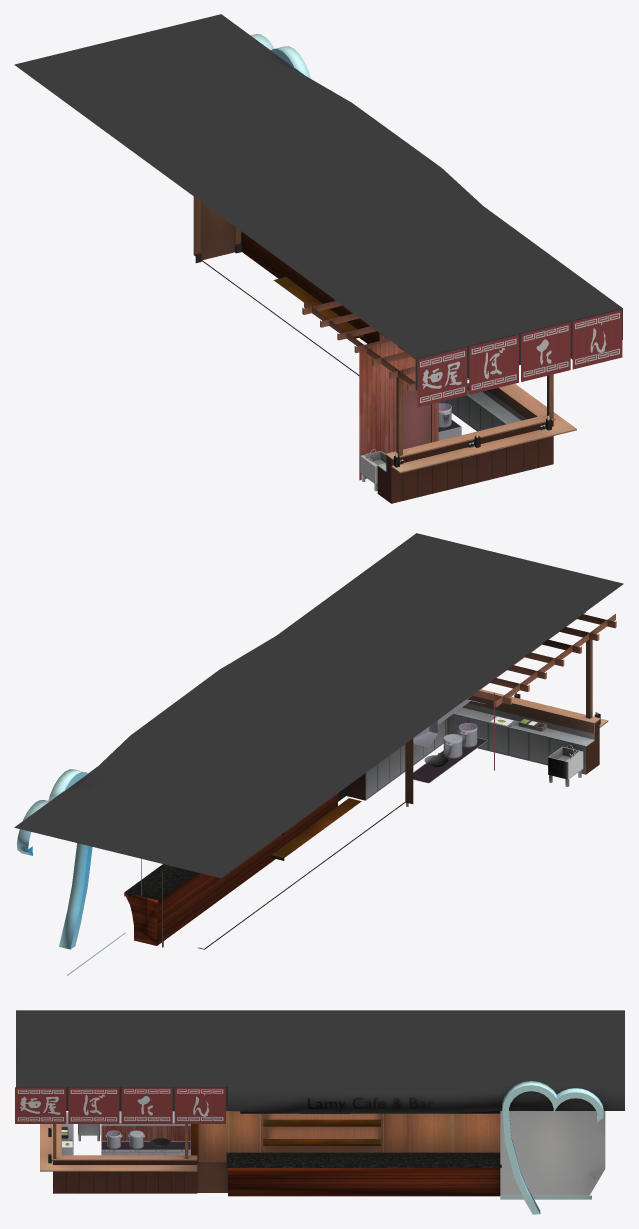
The model's file is aquarium_stalls.glb.
The picture shows the model from 3 angles, top to bottom: view 1: azimuth 30°, elevation 25°; view 2: azimuth 150°, elevation 25°; view 3: azimuth 270°, elevation 25°; orthographic projection. The views are drawn at different scales.
Parts seen in each view (by area): view 1: stalls; view 2: stalls; view 3: stalls.
Boxes of the visible parts, <box> form: stalls: <box>14,14,622,503</box>; stalls: <box>14,533,623,975</box>; stalls: <box>15,1010,624,1214</box>.
Bounding box in the file's own units: 4.42 × 3.3 × 14.12.
10 materials, 10 textured.
